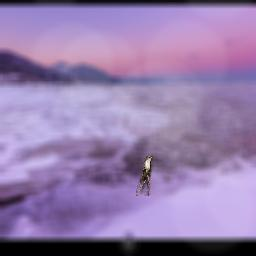Cuckoo: (136, 156, 153, 196)
